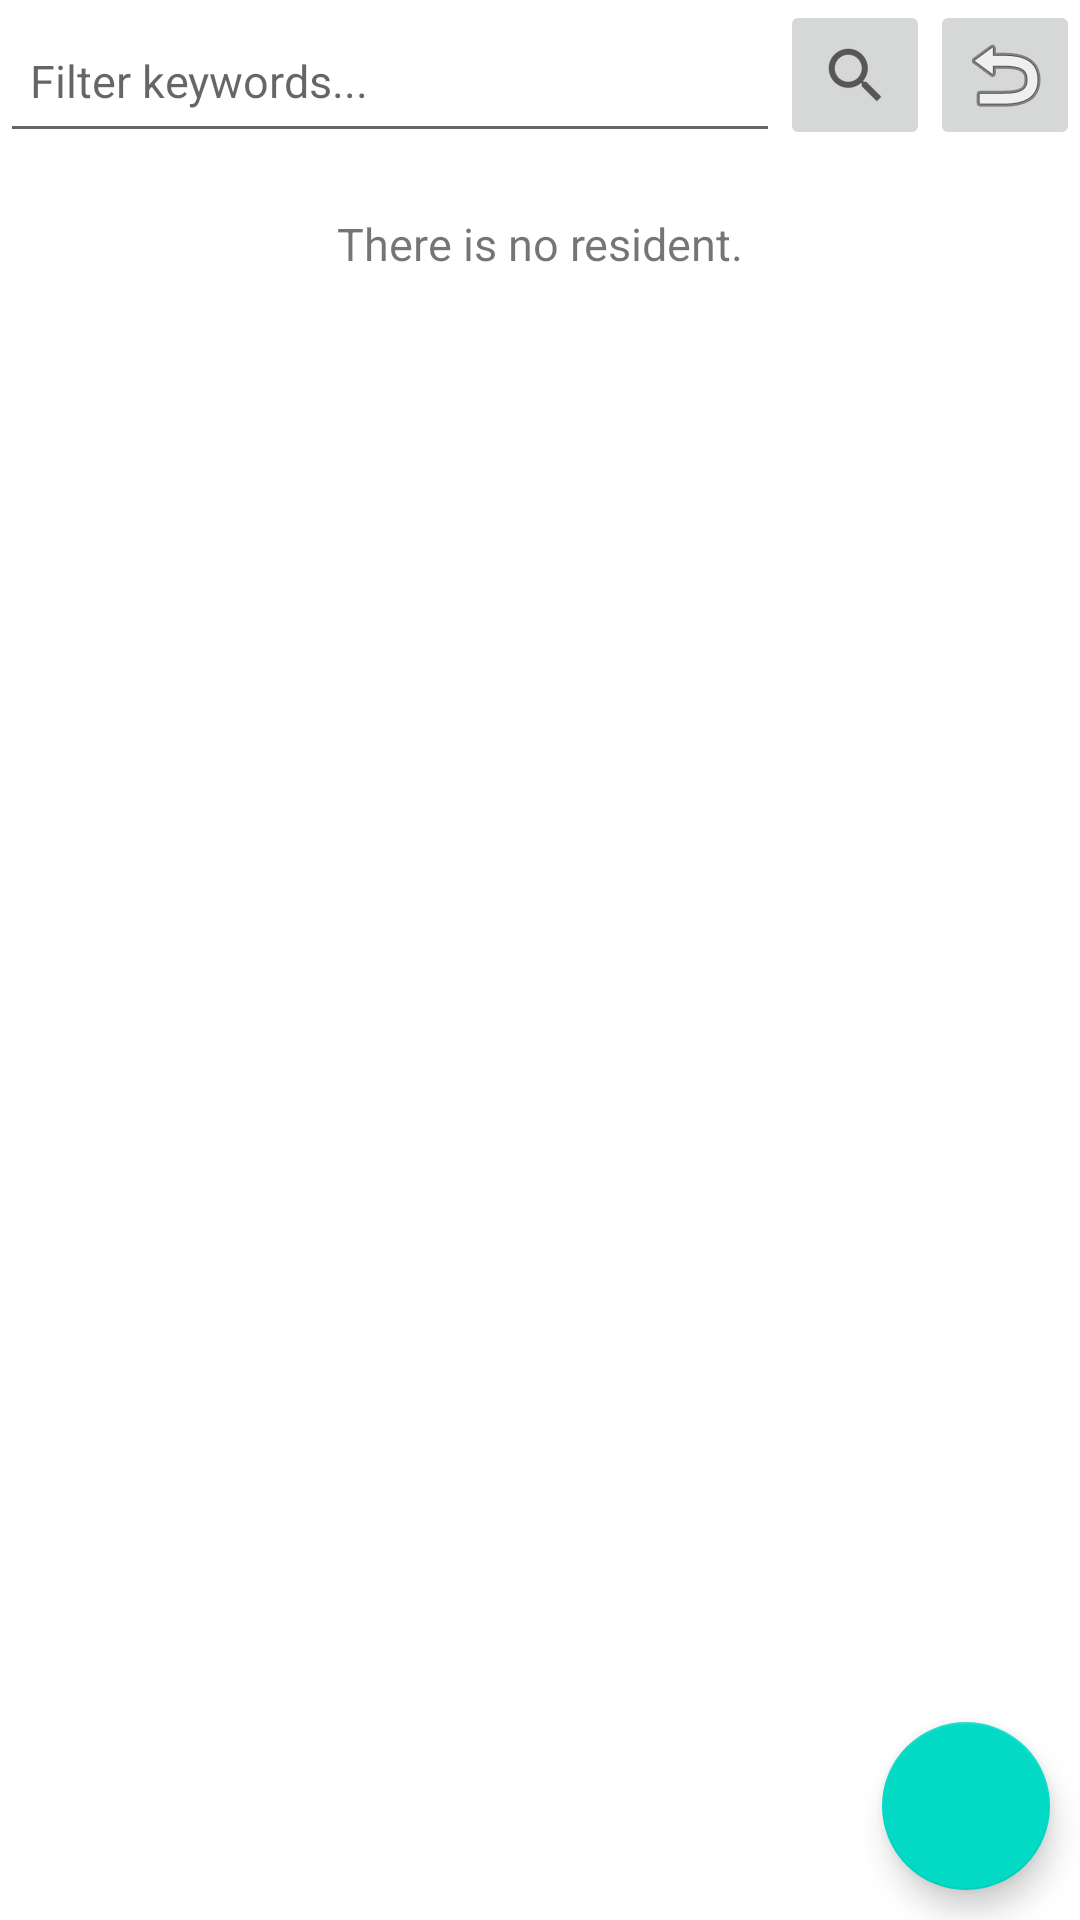

Screen size 1080x1920. Icon name, then its center in pixels as (x=x, y=y):
reset button: (x=1005, y=75)
search button: (x=855, y=75)
